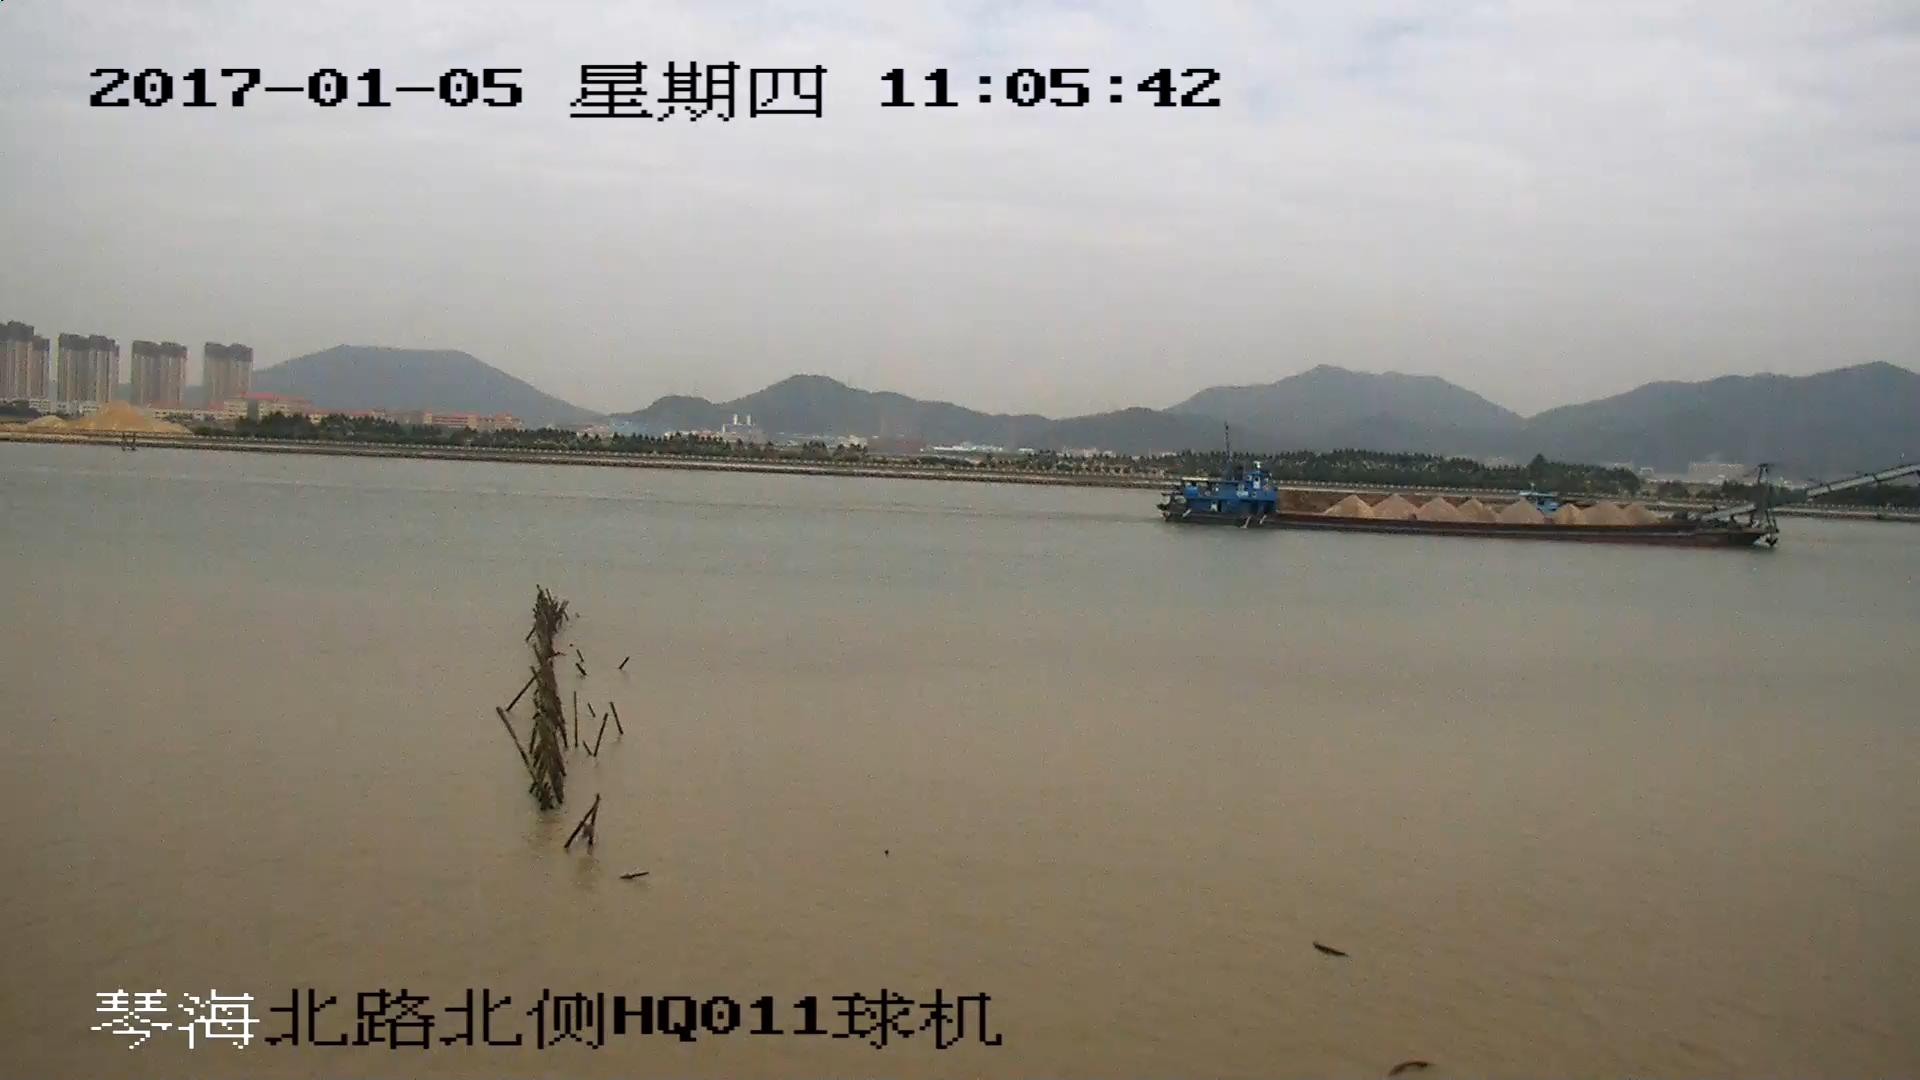ore carrier: (1164, 460, 1920, 551)
